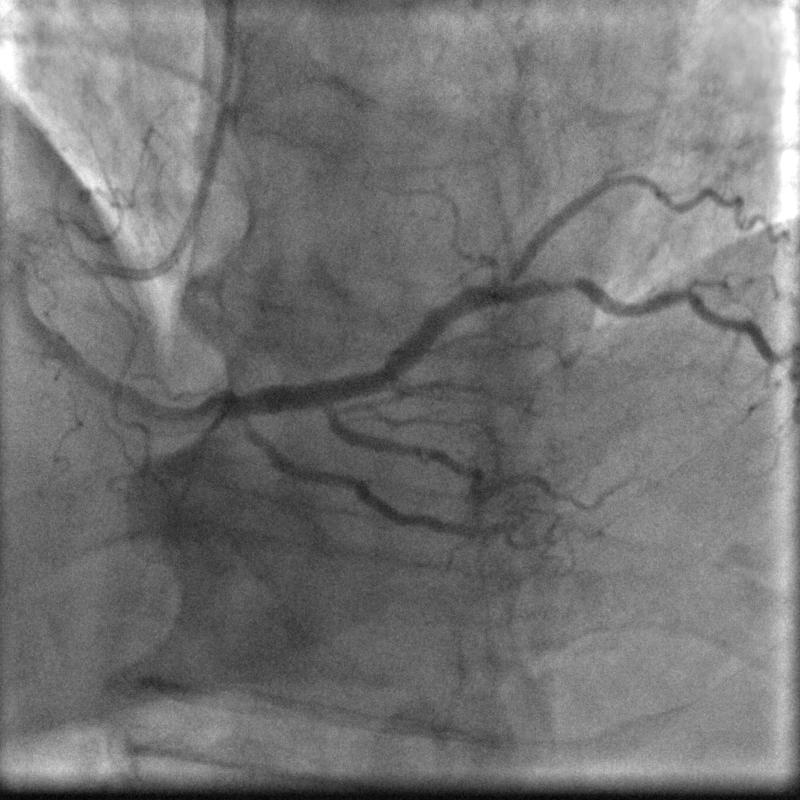Stenosis: (528, 272, 594, 299)
